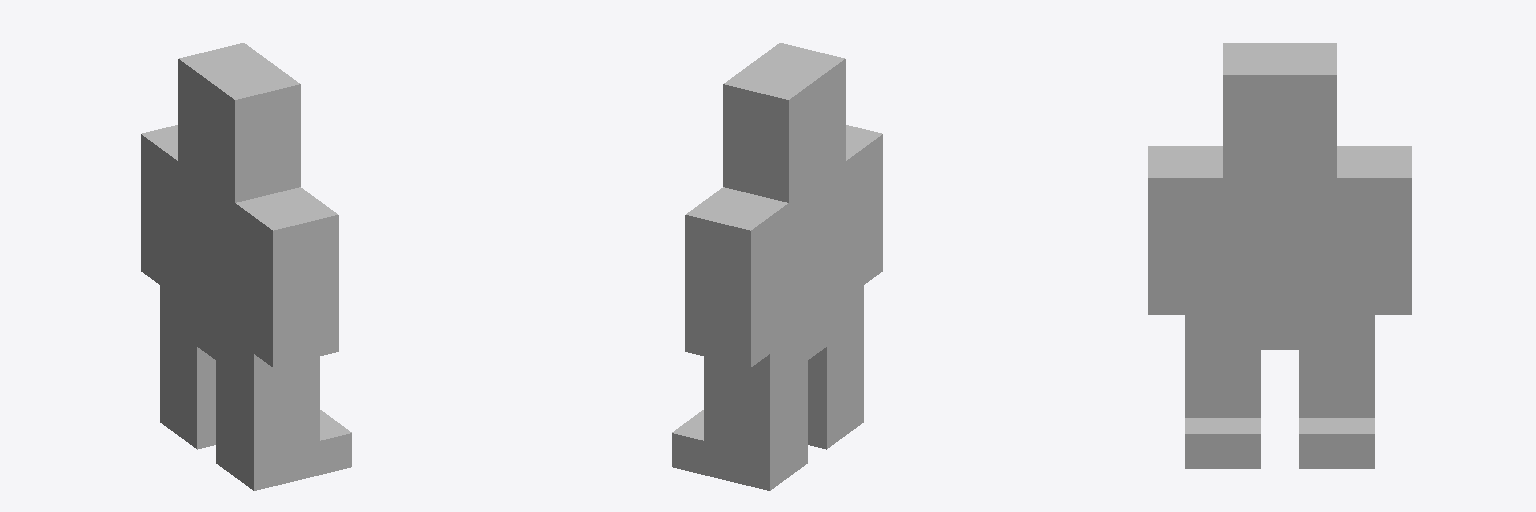
The model's file is bucheron.obj.
3 renders of one model, left to right at view 1: azimuth 30°, elevation 25°; view 2: azimuth 150°, elevation 25°; view 3: azimuth 270°, elevation 25°, orthographic.
Visible parts, largest first — view 1: object 1; view 2: object 1; view 3: object 1.
Boxes of the visible parts, x1,y1,x2,y2 form: object 1: [141, 43, 351, 490]; object 1: [672, 43, 882, 490]; object 1: [1148, 43, 1411, 468].
Bounding box in the file's own units: 0.3 × 1.1 × 0.7.